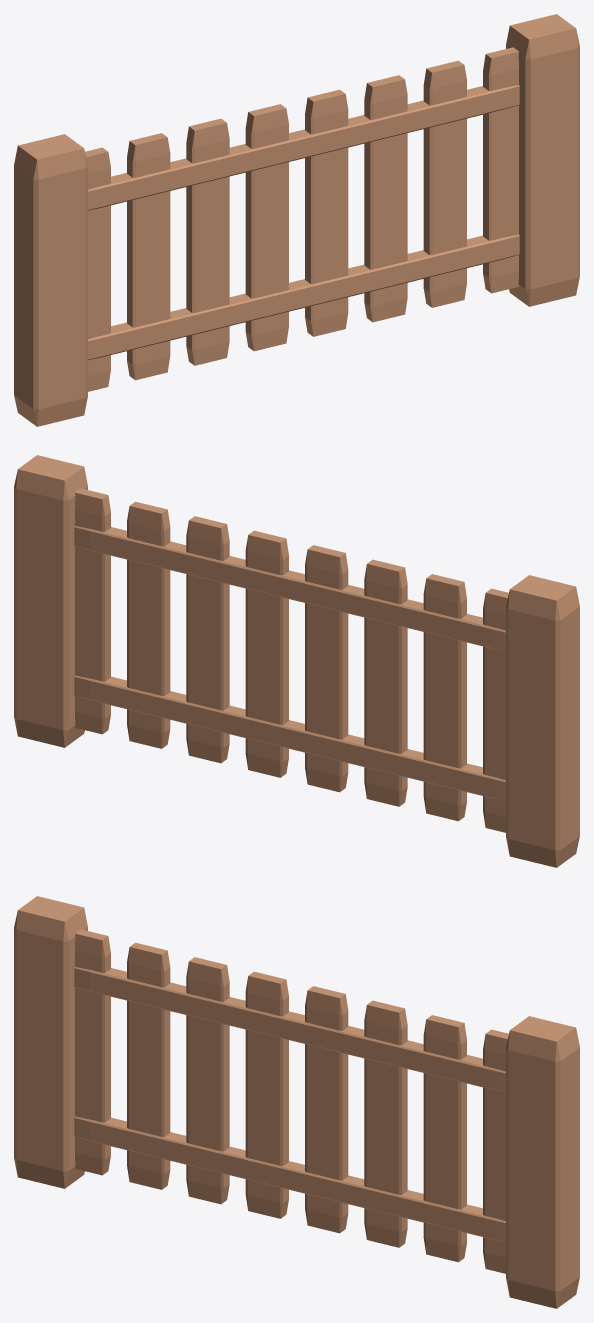
The model's file is b19_residential_chainlink_fence.glb.
3 renders of one model, top to bottom at view 1: azimuth 30°, elevation 25°; view 2: azimuth 150°, elevation 25°; view 3: azimuth 330°, elevation 25°, orthographic.
Parts seen in each view (by area): view 1: b19_residential_chainlink_fence; view 2: b19_residential_chainlink_fence; view 3: b19_residential_chainlink_fence.
Boxes of the visible parts, bbox=[...] form: b19_residential_chainlink_fence: bbox=[14, 14, 579, 426]; b19_residential_chainlink_fence: bbox=[14, 455, 579, 867]; b19_residential_chainlink_fence: bbox=[14, 896, 579, 1308].
Bounding box in the file's own units: 2.8 × 1.31 × 0.2.
